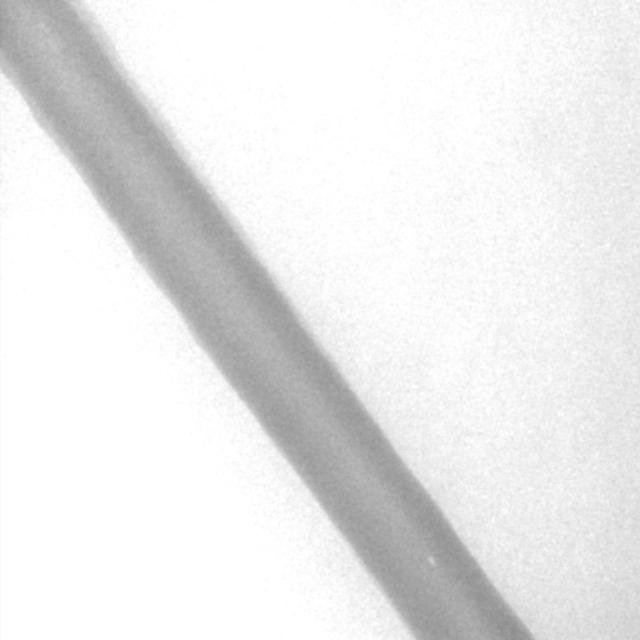air-hole: (426, 552, 436, 566)
